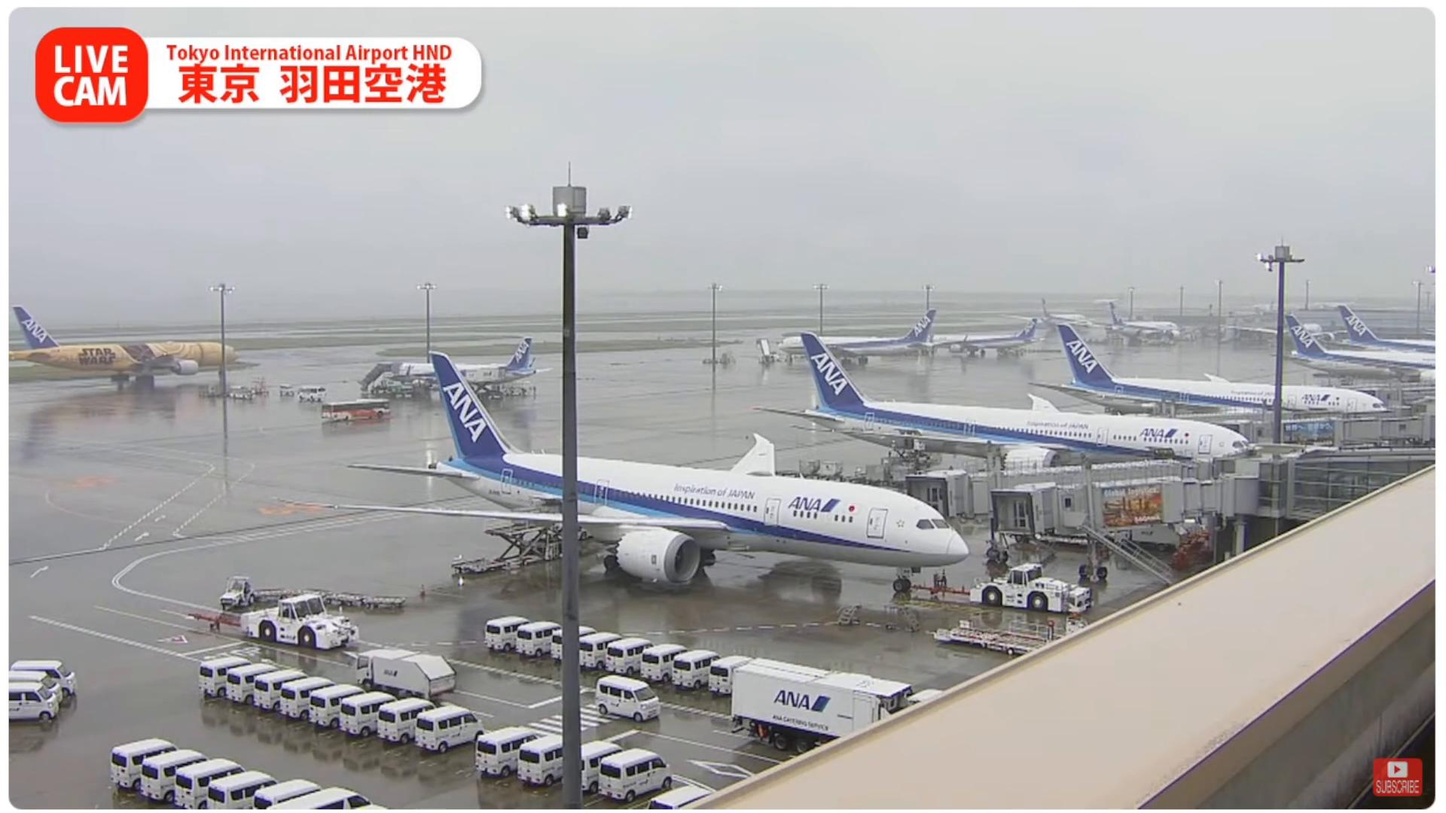APS: (241, 594, 360, 651), (968, 562, 1094, 614)
Aerobridge: (898, 474, 1254, 535), (904, 455, 1233, 482)
Airplane: (270, 351, 970, 592)
Catering: (727, 656, 943, 755)
Dolly: (257, 587, 408, 609)
JCPL: (924, 613, 1089, 655), (447, 521, 564, 573)
Tractor: (220, 575, 255, 609)
Window: (1292, 458, 1433, 516)
